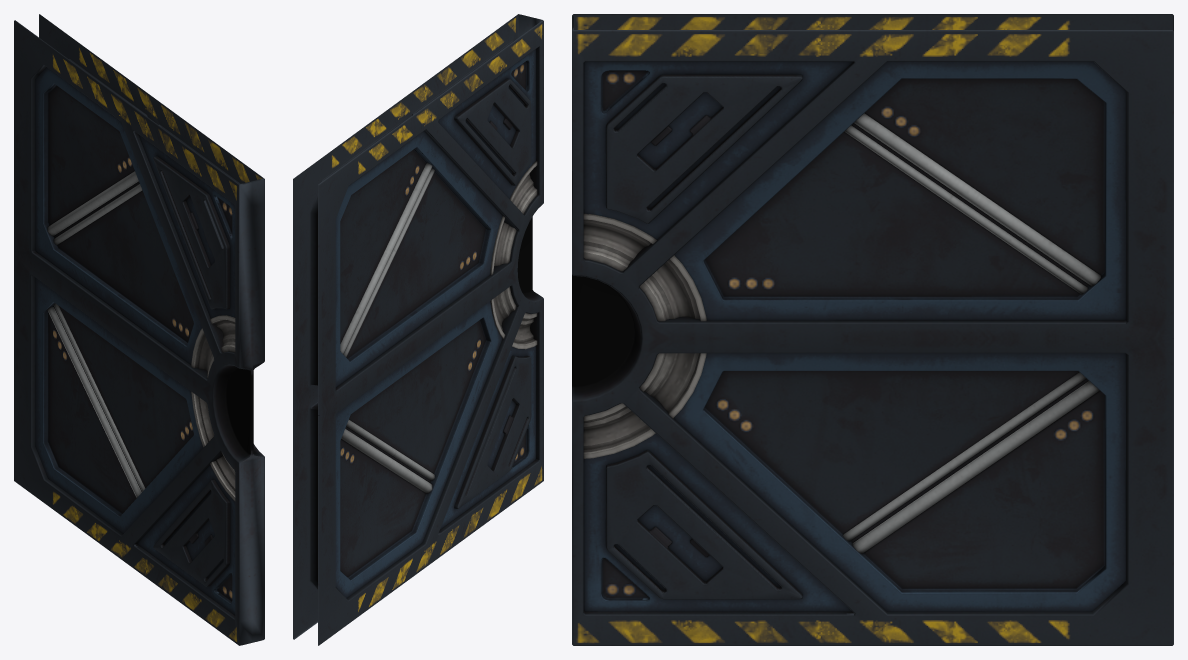
File: BG_CM_BD_Gate_L.fbx
3 renders of one model, left to right at view 1: azimuth 30°, elevation 25°; view 2: azimuth 150°, elevation 25°; view 3: azimuth 270°, elevation 25°, orthographic. The views are drawn at different scales.
Visible parts, largest first — view 1: gate_door_R_low; view 2: gate_door_R_low; view 3: gate_door_R_low.
Boxes of the visible parts, <box> form: gate_door_R_low: <box>14,14,264,645</box>; gate_door_R_low: <box>293,14,543,645</box>; gate_door_R_low: <box>572,14,1173,645</box>.
Bounding box in the file's own units: 20 × 334 × 296.
